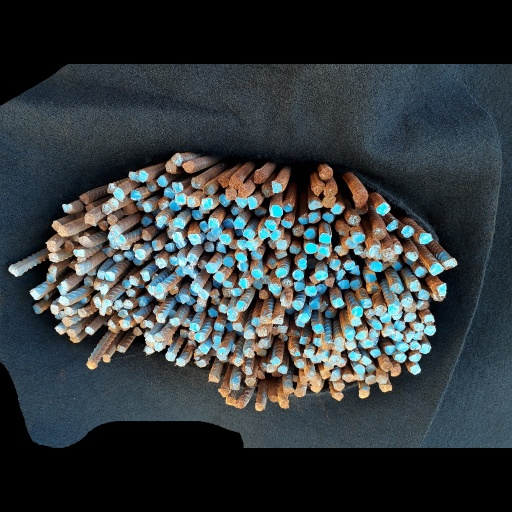dipstick: (382, 247, 397, 262), (368, 244, 383, 259), (323, 182, 337, 197), (354, 193, 368, 208), (375, 202, 391, 215), (365, 282, 382, 294), (319, 167, 333, 181), (164, 159, 177, 174), (229, 175, 242, 190), (312, 181, 325, 196), (261, 183, 274, 197), (322, 195, 336, 208), (401, 225, 415, 238), (317, 243, 331, 256), (390, 283, 404, 296), (218, 232, 232, 245), (254, 169, 266, 184), (308, 198, 323, 210), (334, 244, 349, 256), (443, 258, 458, 270), (187, 233, 202, 245), (108, 224, 123, 236), (429, 264, 445, 275), (233, 216, 246, 229), (424, 324, 437, 337), (170, 152, 182, 166), (186, 196, 200, 208), (269, 204, 283, 216), (382, 323, 394, 337), (215, 347, 229, 359), (222, 255, 236, 267), (77, 235, 91, 247), (304, 243, 319, 254), (230, 205, 245, 216), (182, 160, 194, 173), (191, 177, 204, 189), (225, 187, 237, 200), (174, 193, 187, 205), (201, 198, 214, 210), (303, 228, 316, 240), (318, 232, 331, 244), (353, 232, 365, 245), (386, 219, 398, 232), (329, 259, 342, 271), (397, 342, 410, 354), (227, 308, 239, 321), (281, 277, 294, 289), (155, 215, 168, 227), (113, 187, 125, 200), (84, 212, 96, 225), (203, 184, 217, 195), (271, 180, 282, 194), (419, 233, 433, 244), (405, 250, 419, 261), (369, 261, 383, 272), (413, 266, 427, 277), (374, 305, 388, 316), (330, 297, 344, 308), (348, 351, 362, 362), (330, 367, 341, 381), (229, 356, 243, 367), (185, 253, 199, 264), (330, 204, 345, 214), (128, 170, 140, 182), (235, 196, 247, 208), (338, 224, 350, 236), (373, 227, 385, 239), (343, 259, 355, 271), (410, 280, 422, 292), (418, 288, 430, 300), (430, 292, 446, 301), (292, 269, 304, 281), (154, 282, 166, 294), (145, 333, 157, 345), (114, 234, 126, 246), (107, 198, 119, 210), (8, 265, 20, 277), (157, 175, 168, 188), (218, 175, 229, 188), (247, 196, 258, 209), (157, 197, 168, 210), (307, 212, 320, 223), (321, 213, 334, 224), (280, 218, 293, 229), (348, 214, 361, 225), (345, 236, 356, 249), (257, 228, 270, 239), (419, 343, 432, 354), (325, 305, 336, 318), (297, 313, 310, 324), (243, 328, 256, 339), (206, 230, 219, 241), (175, 238, 188, 249), (151, 240, 164, 251), (134, 249, 147, 260), (123, 204, 136, 215), (411, 322, 425, 332), (403, 303, 417, 313), (389, 331, 403, 341), (216, 388, 230, 398), (234, 252, 248, 262), (163, 187, 174, 199), (169, 200, 181, 211), (219, 194, 230, 206), (292, 225, 304, 236), (243, 228, 255, 239), (250, 249, 262, 260), (266, 257, 277, 269), (275, 267, 287, 278), (352, 244, 364, 255), (338, 278, 350, 289), (305, 286, 317, 297), (316, 282, 327, 294), (409, 364, 421, 375), (384, 344, 396, 355), (313, 323, 325, 334), (292, 300, 304, 311), (294, 358, 306, 369), (256, 326, 268, 337), (243, 347, 255, 358), (237, 261, 249, 272), (205, 262, 217, 273), (216, 241, 227, 253), (191, 209, 203, 220), (171, 232, 183, 243), (155, 258, 167, 269), (141, 215, 152, 227), (136, 296, 148, 307), (139, 270, 150, 282), (113, 235, 125, 246), (45, 240, 57, 251), (64, 240, 75, 252), (47, 252, 59, 263), (56, 284, 68, 295), (138, 170, 148, 183), (254, 206, 267, 216), (416, 300, 429, 310), (351, 306, 364, 316), (408, 353, 421, 363), (394, 353, 407, 363), (370, 320, 383, 330), (344, 340, 357, 350), (376, 375, 389, 385), (251, 269, 264, 279), (212, 272, 225, 282), (208, 218, 221, 228), (106, 214, 119, 224), (79, 192, 89, 205), (360, 339, 374, 348), (101, 247, 115, 256), (172, 182, 183, 193), (282, 201, 293, 212), (298, 213, 309, 224), (391, 260, 402, 271), (290, 243, 301, 254), (265, 220, 276, 231), (275, 248, 286, 259), (306, 258, 317, 269), (350, 279, 361, 290), (309, 273, 320, 284), (364, 308, 375, 319), (381, 361, 392, 372), (309, 299, 320, 310), (239, 278, 250, 289), (252, 279, 263, 290), (223, 217, 234, 228), (198, 288, 209, 299), (203, 241, 214, 252), (175, 266, 186, 277), (141, 229, 152, 240), (102, 203, 113, 214), (129, 274, 140, 285), (46, 273, 57, 284), (129, 190, 141, 200), (276, 240, 288, 250), (269, 230, 281, 240), (246, 240, 258, 250), (315, 270, 327, 280), (350, 265, 360, 277), (364, 273, 376, 283), (388, 304, 400, 314), (404, 330, 414, 342), (356, 330, 368, 340), (344, 330, 356, 340), (294, 318, 306, 328), (316, 352, 328, 362), (353, 364, 365, 374), (332, 392, 344, 402), (241, 365, 253, 375), (280, 297, 292, 307), (221, 287, 233, 297), (168, 317, 180, 327), (192, 303, 204, 313), (191, 283, 203, 293), (196, 259, 208, 269), (163, 242, 175, 252), (85, 360, 97, 370), (121, 279, 133, 289), (125, 288, 137, 298), (57, 226, 69, 236), (75, 263, 85, 275), (63, 306, 75, 316), (380, 313, 393, 322), (361, 298, 374, 307), (393, 321, 406, 330), (409, 341, 422, 350), (359, 356, 372, 365), (259, 316, 272, 325), (132, 256, 145, 265), (379, 384, 393, 392), (393, 243, 403, 254), (297, 258, 307, 269), (436, 283, 446, 294), (423, 313, 434, 323), (294, 282, 305, 292), (325, 277, 335, 288), (391, 365, 401, 376), (368, 329, 379, 339), (303, 348, 314, 358), (328, 355, 339, 365), (366, 364, 377, 374), (366, 374, 376, 385), (279, 399, 290, 409), (229, 381, 240, 391), (244, 376, 254, 387), (277, 365, 288, 375), (290, 347, 301, 357), (272, 315, 283, 325), (198, 344, 209, 354), (194, 332, 205, 342), (189, 322, 200, 332), (236, 300, 246, 311), (236, 239, 247, 249), (175, 357, 186, 367), (211, 227, 222, 237), (200, 221, 210, 232), (173, 218, 184, 228), (178, 294, 189, 304), (168, 285, 179, 295), (152, 332, 163, 342), (135, 199, 145, 210), (123, 299, 134, 309), (51, 221, 62, 231), (58, 296, 69, 306), (79, 294, 90, 304), (55, 325, 66, 335), (404, 313, 416, 322), (370, 349, 382, 358), (350, 317, 362, 326), (342, 373, 354, 382), (357, 389, 369, 398), (254, 402, 266, 411), (277, 332, 289, 341), (230, 287, 242, 296), (198, 205, 210, 214), (184, 296, 196, 305), (144, 346, 156, 355), (132, 314, 144, 323), (123, 251, 135, 260), (61, 204, 73, 213), (93, 296, 102, 308), (48, 264, 57, 276), (287, 329, 300, 337), (72, 248, 85, 256), (142, 202, 152, 212), (333, 336, 343, 346), (312, 337, 322, 347), (337, 358, 347, 368), (234, 399, 244, 409), (266, 363, 276, 373), (232, 321, 242, 331), (269, 283, 279, 293), (208, 308, 218, 318), (105, 271, 115, 281), (98, 220, 108, 230), (85, 326, 95, 336), (268, 238, 277, 249), (402, 298, 413, 307), (319, 301, 328, 312), (320, 370, 331, 379), (268, 394, 279, 403), (224, 396, 235, 405), (299, 335, 310, 344), (270, 325, 279, 336), (256, 349, 267, 358), (213, 322, 224, 331), (208, 373, 219, 382), (209, 289, 220, 298), (165, 353, 176, 362), (197, 296, 206, 307), (169, 256, 180, 265), (153, 343, 164, 352), (107, 183, 116, 194), (117, 309, 128, 318), (84, 275, 93, 286), (61, 281, 70, 292), (62, 317, 73, 326), (333, 383, 345, 391), (222, 280, 234, 288), (194, 360, 207, 367), (336, 270, 345, 280), (414, 331, 424, 340), (310, 384, 320, 393), (270, 357, 280, 366), (277, 324, 287, 333), (257, 339, 267, 348), (251, 317, 260, 327), (224, 322, 233, 332), (258, 290, 268, 299), (218, 304, 227, 314), (179, 329, 189, 338), (181, 318, 191, 327), (177, 257, 187, 266), (119, 319, 129, 328), (107, 320, 117, 329), (114, 299, 124, 308), (93, 280, 102, 290), (30, 290, 40, 299), (50, 304, 59, 314), (66, 329, 76, 338), (322, 343, 333, 351), (323, 362, 334, 370), (295, 389, 306, 397), (182, 265, 193, 273), (100, 284, 108, 295), (188, 340, 197, 349), (133, 327, 142, 336), (116, 344, 125, 353), (113, 254, 122, 263), (213, 335, 221, 345), (261, 275, 269, 285), (234, 228, 244, 236), (211, 297, 221, 305), (144, 320, 154, 328), (101, 299, 111, 307), (54, 311, 64, 319), (306, 372, 317, 379), (283, 387, 294, 394), (300, 374, 308, 383), (257, 370, 265, 379), (156, 315, 165, 323), (103, 354, 111, 363), (33, 305, 41, 314), (76, 308, 84, 317), (212, 282, 222, 289), (97, 270, 104, 280), (187, 331, 195, 339), (260, 362, 267, 371), (174, 293, 181, 302), (132, 243, 141, 250), (85, 204, 94, 211), (87, 269, 96, 276), (200, 231, 206, 241), (77, 255, 87, 261), (70, 337, 80, 343), (188, 272, 196, 277)
